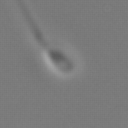normal: (9, 1, 50, 51)
